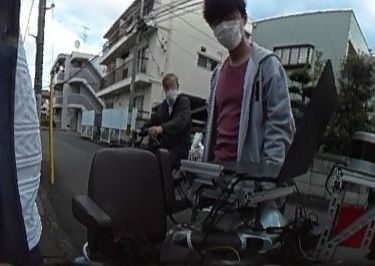person: (200, 2, 293, 169), (151, 71, 191, 149)
